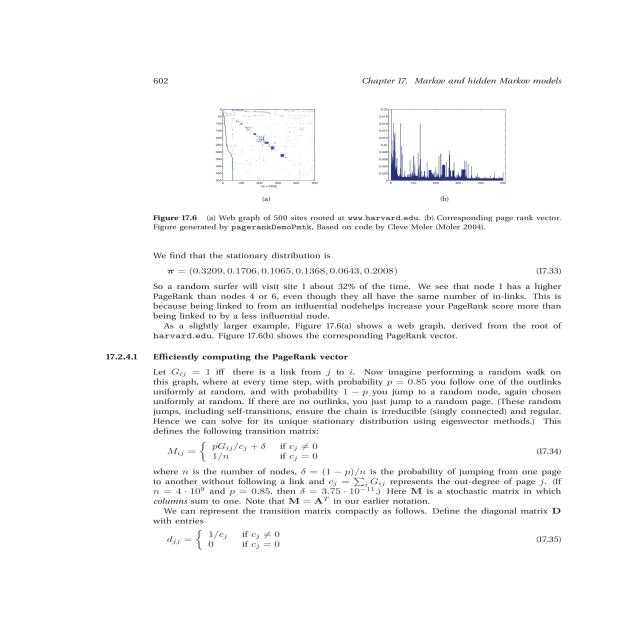diagram: (58, 96, 580, 236)
